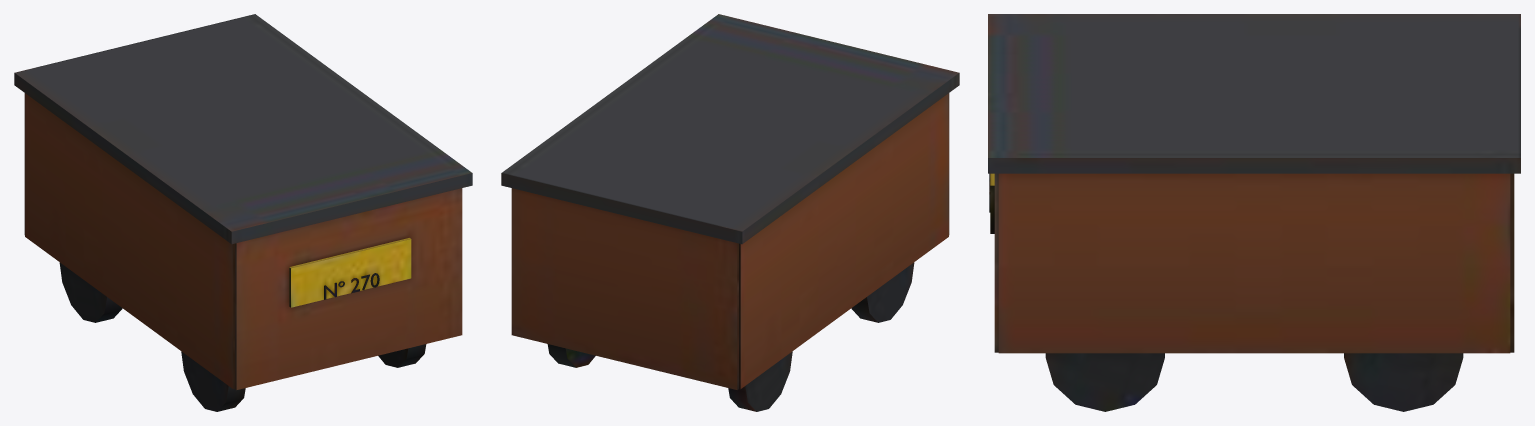
File: vagoneta_carbon.glb
3 views of the same model, side by side, from view 1: azimuth 30°, elevation 25°; view 2: azimuth 150°, elevation 25°; view 3: azimuth 270°, elevation 25° (orthographic). The views are drawn at different scales.
Parts seen in each view (by area): view 1: vagoneta_carbon; view 2: vagoneta_carbon; view 3: vagoneta_carbon.
Part boxes in pixels (left/top/right/bottom): vagoneta_carbon: left=14, top=14, right=472, bottom=411; vagoneta_carbon: left=501, top=14, right=959, bottom=411; vagoneta_carbon: left=988, top=14, right=1520, bottom=411.
Bounding box in the file's own units: 1.6 × 1.38 × 2.5.
Materials: 1 (1 with a texture image).
